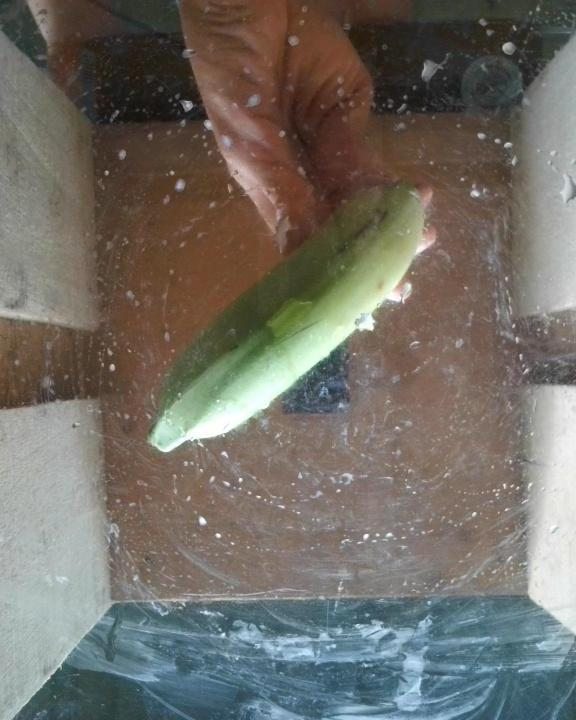CLASS B: (145, 181, 419, 453)
Class A: (335, 200, 394, 259)
